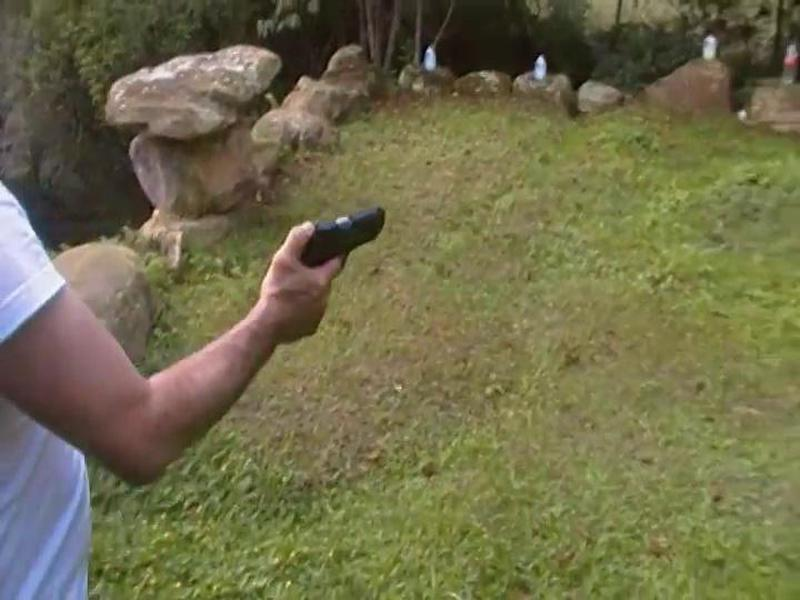Pistola: (287, 194, 401, 296)
